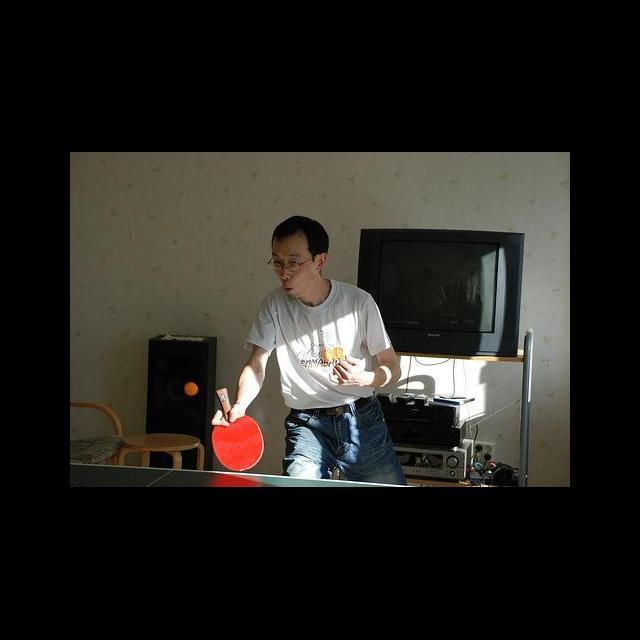ping-pong-ball: (183, 382, 198, 397)
